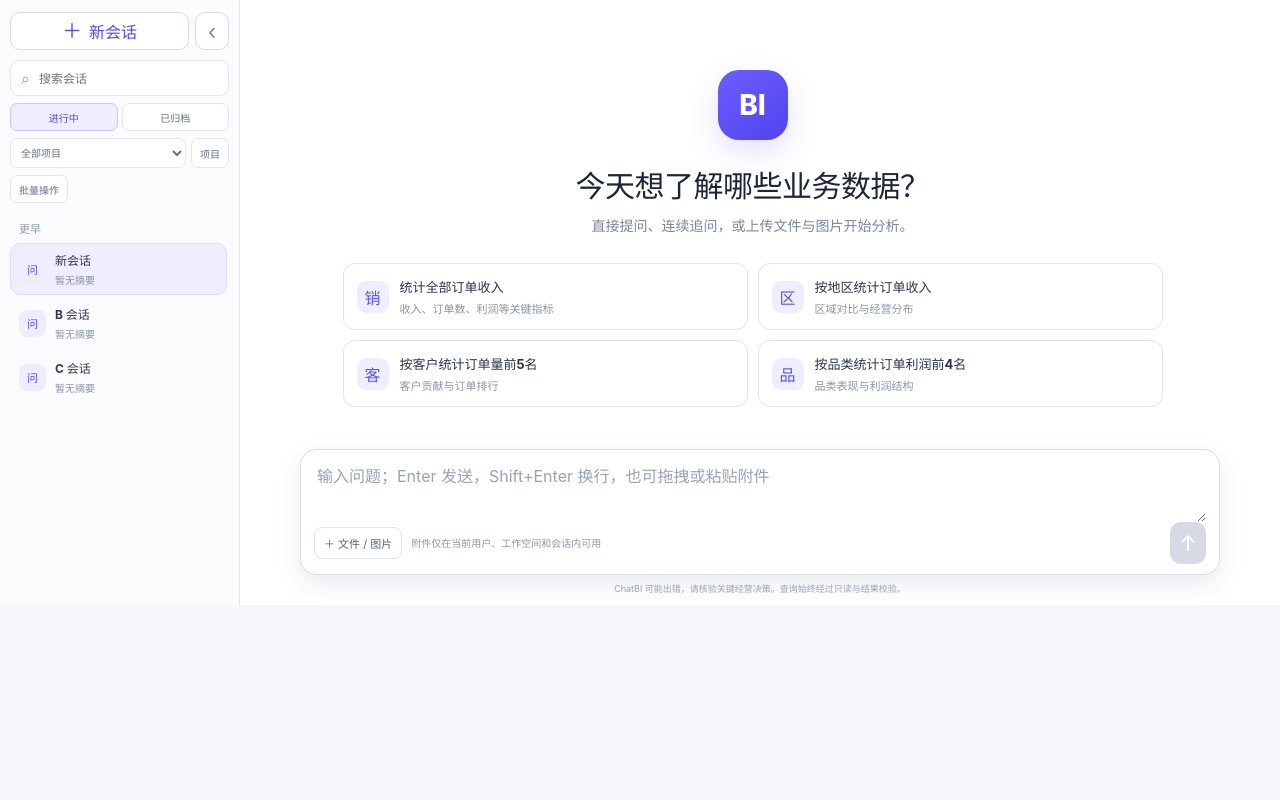
Scenario: 问数据真实多轮界面 › 快速打开 B 后再打开 C 时，迟到的 B 响应不会覆盖 C
Expected: the text box named "输入业务问题" is shown, [314, 460, 1206, 522]
Click the button "问 B 会话 暂无摘要": [118, 323] box [11, 298, 226, 348]
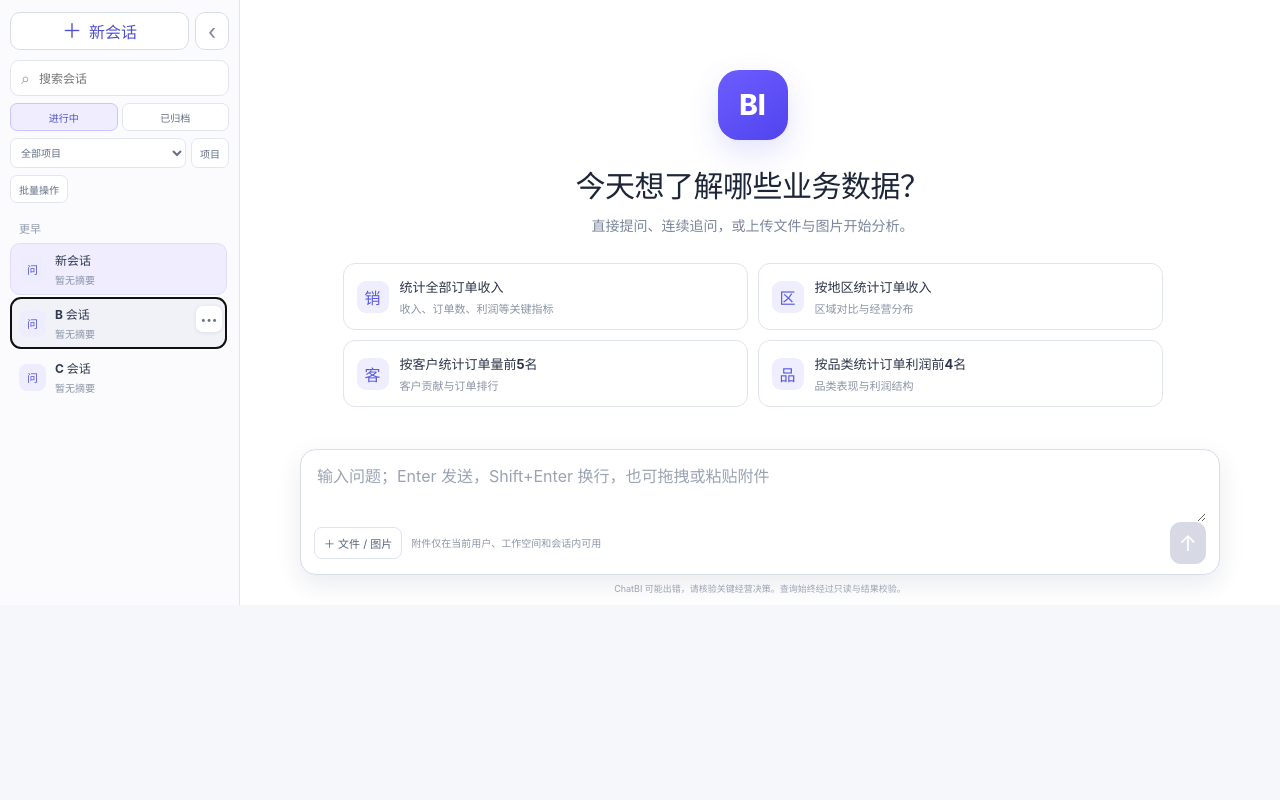
Click the button "问 C 会话 暂无摘要": [118, 377] box [11, 352, 226, 402]
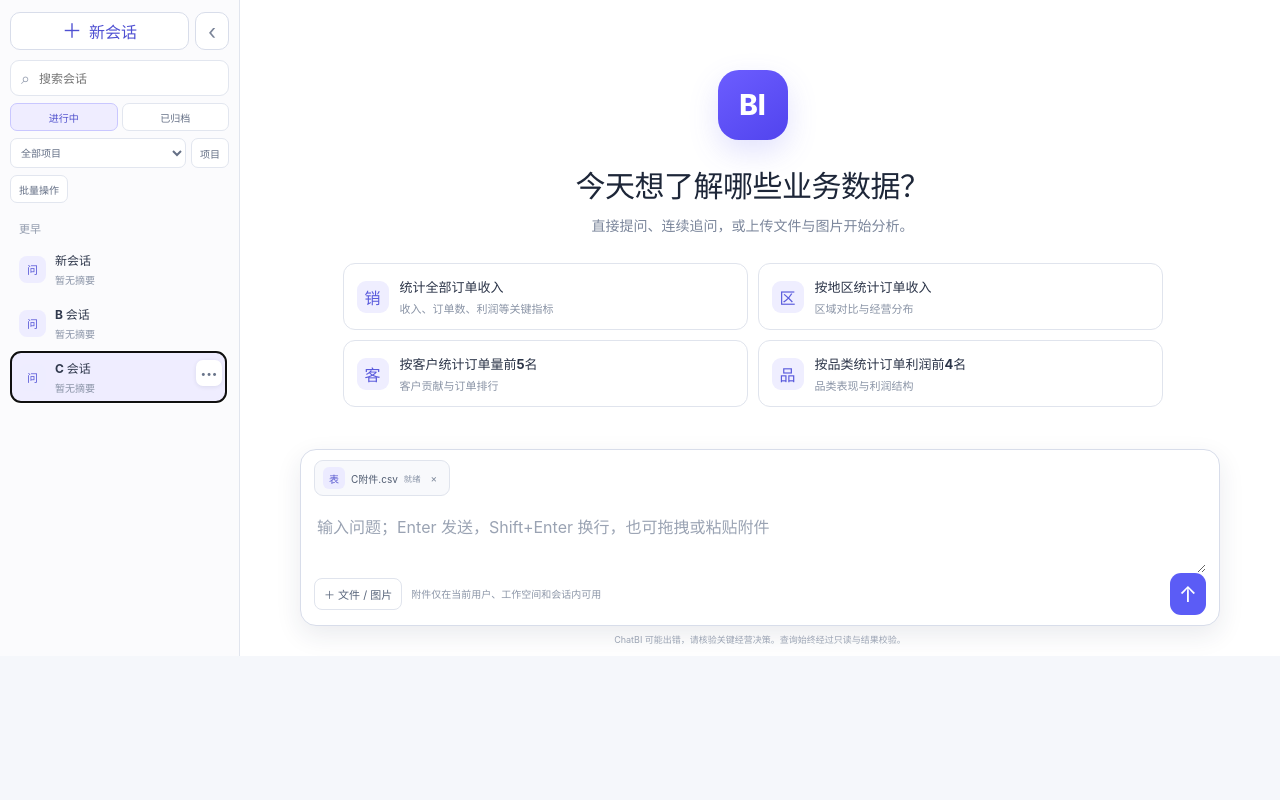
Expected: the text "C附件.csv" is shown, [351, 470, 398, 486]
